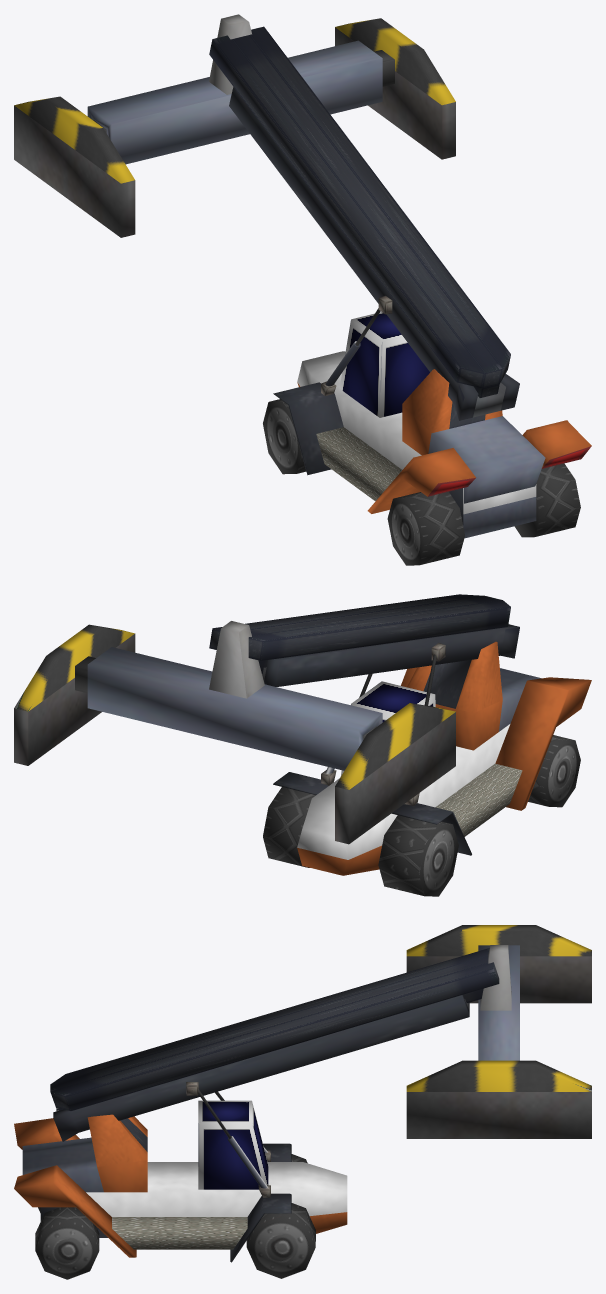
File: ContainerForklifts.fbx
3 views of the same model, one above another, from view 1: azimuth 30°, elevation 25°; view 2: azimuth 150°, elevation 25°; view 3: azimuth 270°, elevation 25° (orthographic). The views are drawn at different scales.
Parts seen in each view (by area): view 1: ContainerForklifts; view 2: ContainerForklifts; view 3: ContainerForklifts.
Part boxes in pixels (bbox=[...]): ContainerForklifts: bbox=[14, 14, 591, 565]; ContainerForklifts: bbox=[14, 594, 591, 896]; ContainerForklifts: bbox=[14, 925, 591, 1279].
Bounding box in the file's own units: 4.51 × 4.42 × 7.78.
